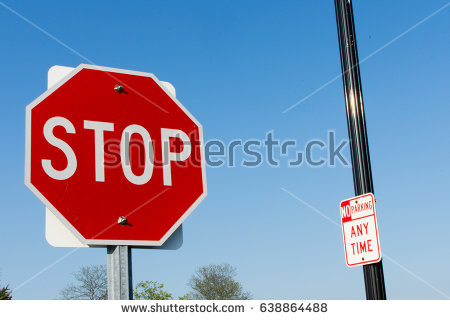stopsign: (26, 66, 203, 246)
